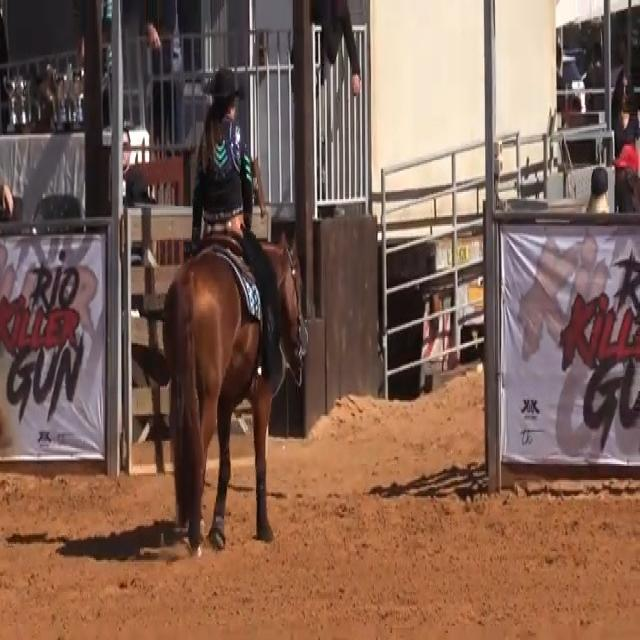horse: (161, 226, 308, 553)
